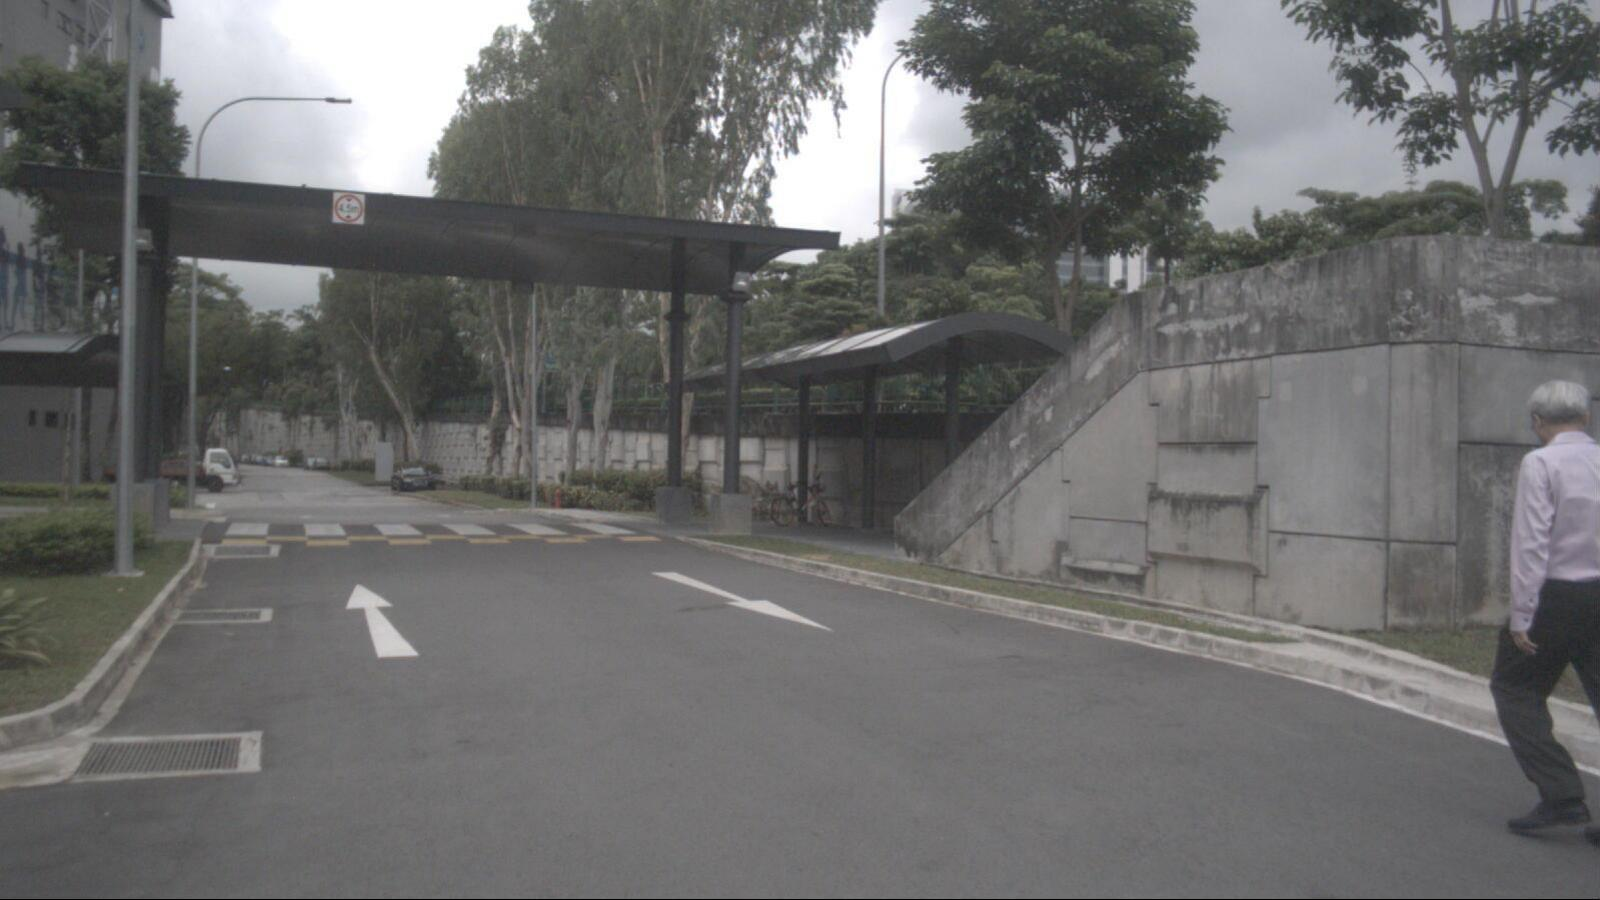human.pedestrian.adult-pedestrian.moving: (1487, 378, 1598, 850)
